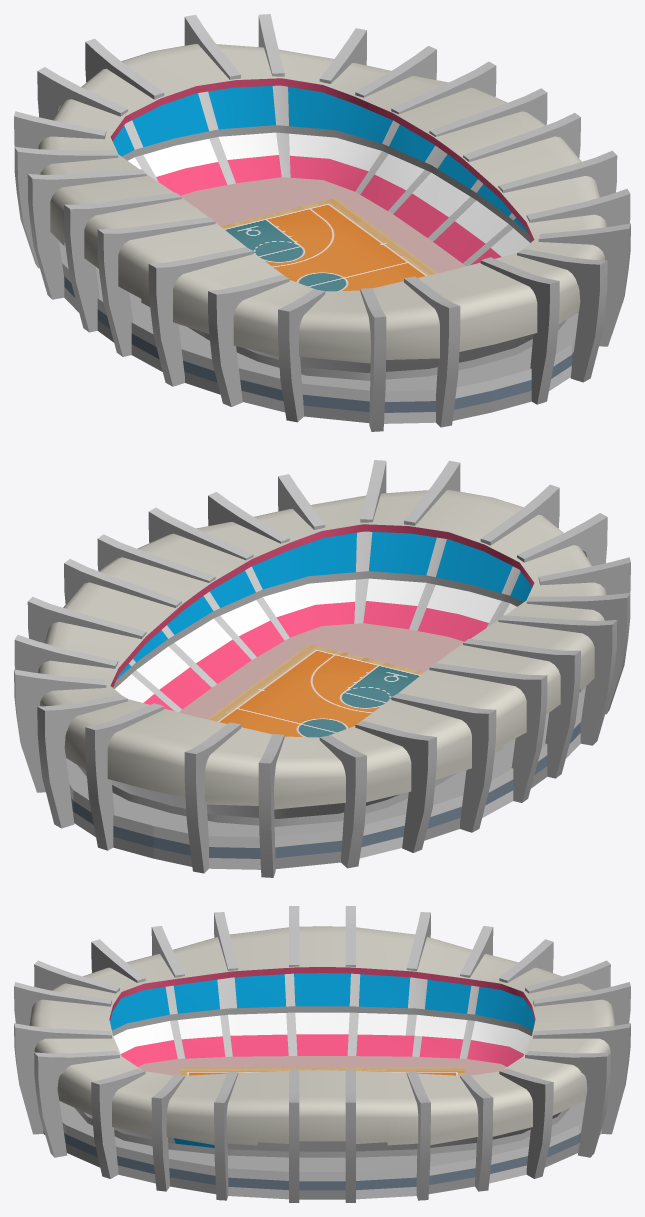
The model's file is stadium1.fbx.
3 renders of one model, top to bottom at view 1: azimuth 30°, elevation 25°; view 2: azimuth 150°, elevation 25°; view 3: azimuth 270°, elevation 25°, orthographic. The views are drawn at different scales.
Visible parts, largest first — view 1: FSt_Fra_002; view 2: FSt_Fra_002; view 3: FSt_Fra_002.
Part boxes in pixels (x1=…): FSt_Fra_002: x1=14, y1=14, x2=630, y2=431; FSt_Fra_002: x1=14, y1=460, x2=630, y2=877; FSt_Fra_002: x1=14, y1=906, x2=630, y2=1202.
Bounding box in the file's own units: 7.47 × 1.92 × 9.9.
Materials: 10 (1 with a texture image).
